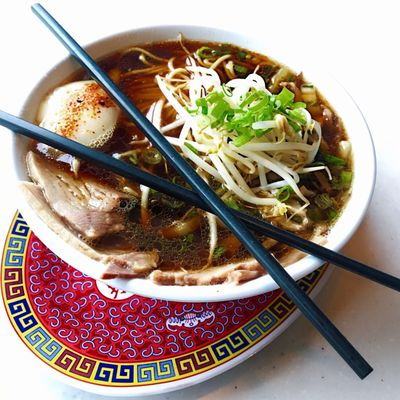burger: (132, 113, 373, 382)
sushi: (54, 33, 384, 286), (108, 39, 377, 256)
